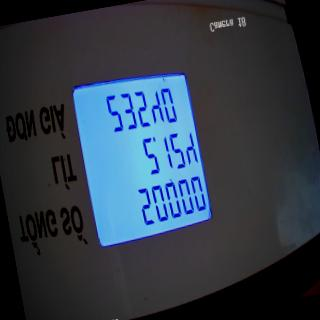screen: (67, 64, 222, 260)
